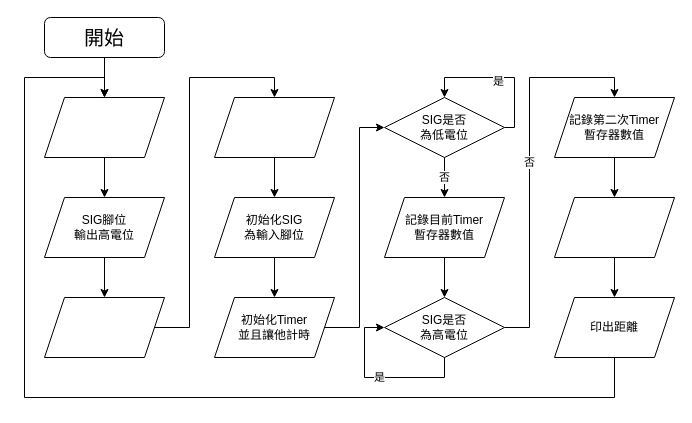
Some shapes in this 692 by 423 pixel diagram are drawn without their labels. The centre of each missing label's shape, as x and y in pixels:
SIG腳位 輸出低電位: (x=274, y=127)
初始化SIG 為輸出腳位: (x=104, y=127)
計時5微秒: (x=104, y=327)
透過兩次數值差 計算出距離: (x=614, y=227)
